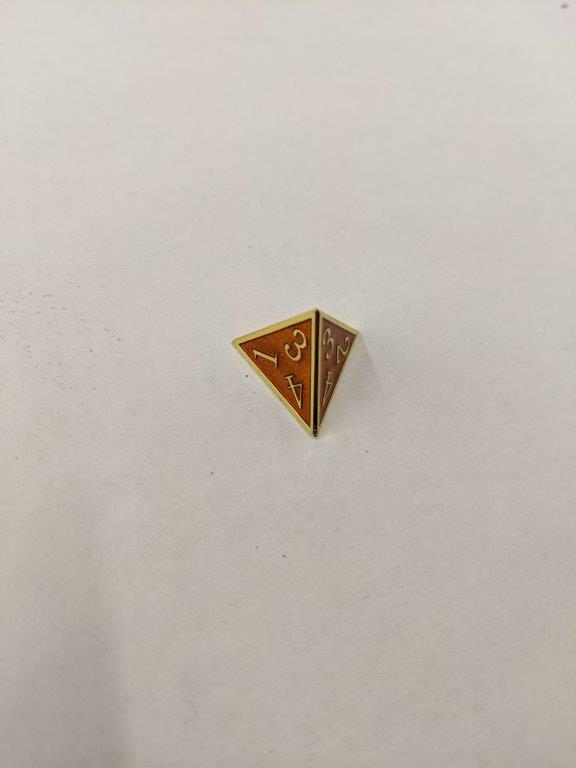d4-3: (227, 306, 366, 442)
